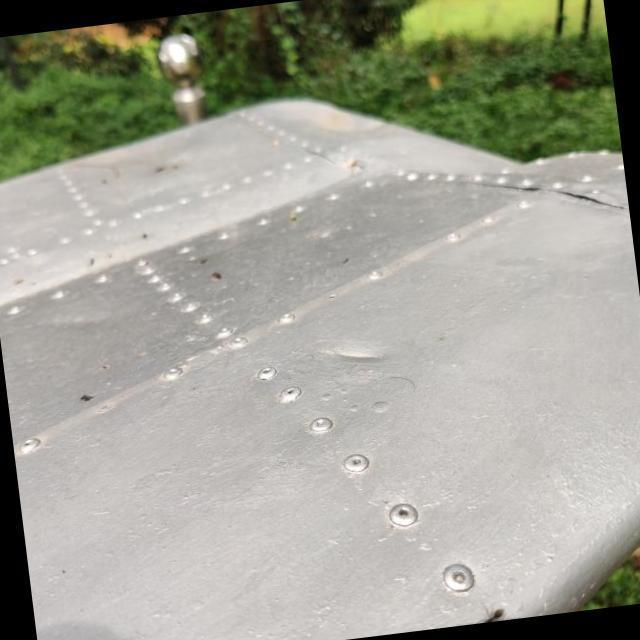Dent: (304, 308, 410, 404)
